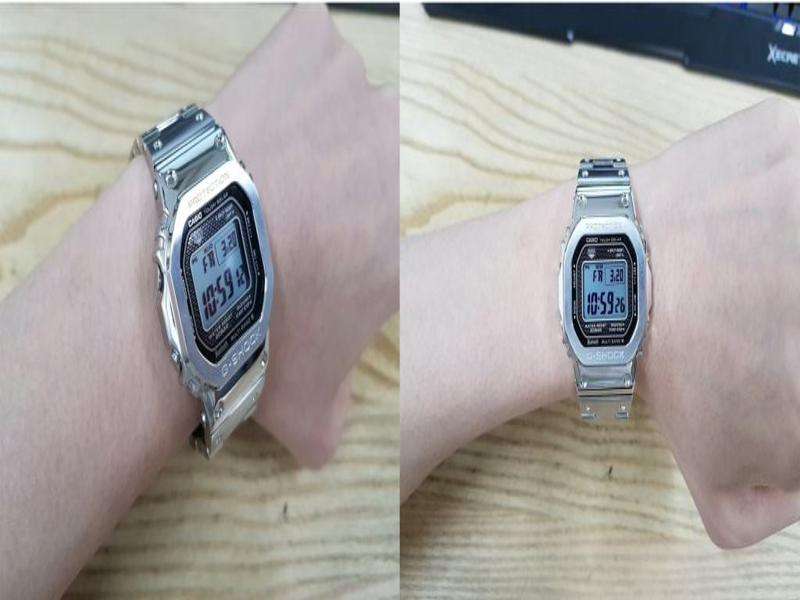watch: (132, 103, 273, 459), (556, 157, 655, 418)
